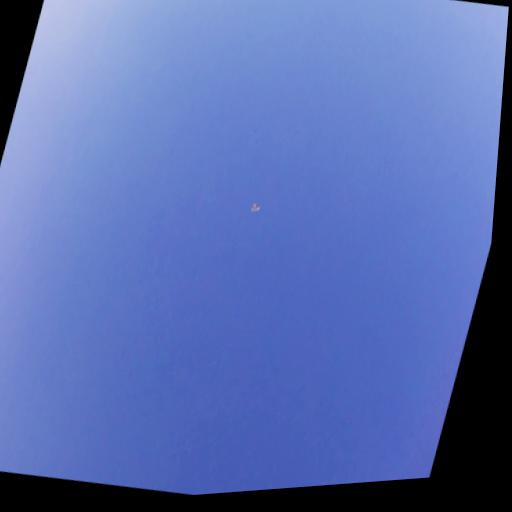drones: (250, 199, 263, 216)
